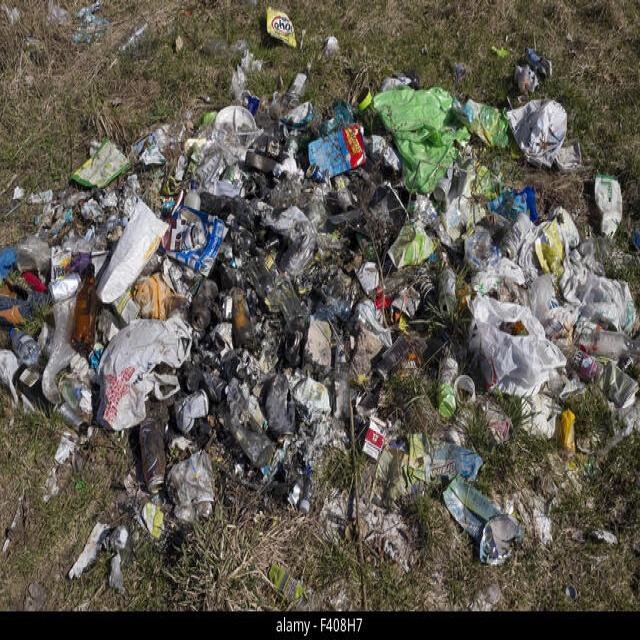trash: (17, 100, 618, 541)
